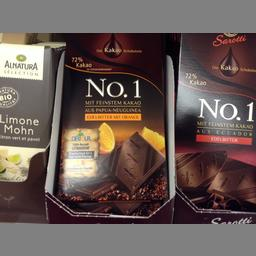chocolate: (58, 34, 167, 212), (174, 34, 255, 212), (0, 42, 53, 180)
